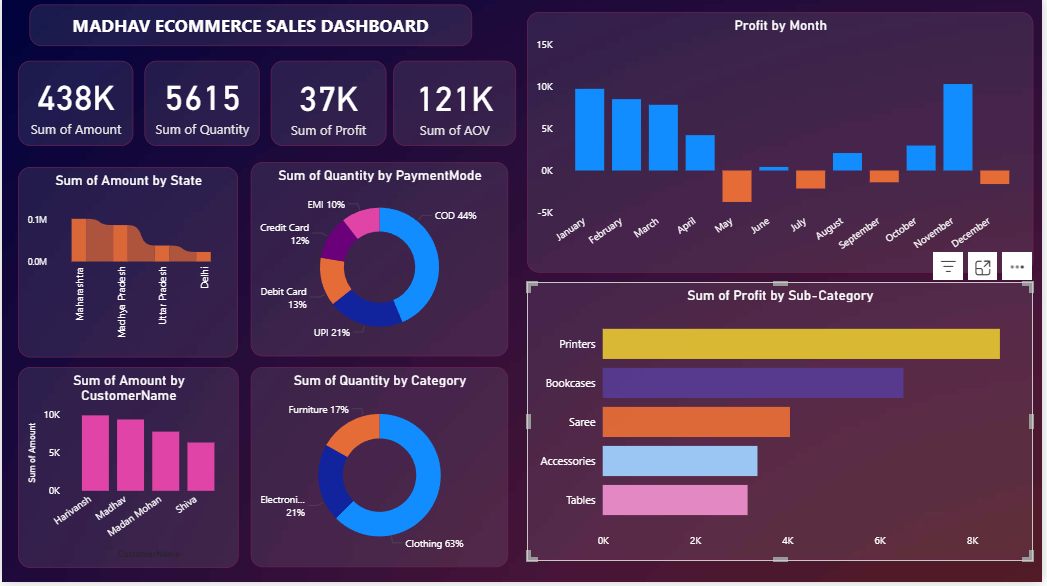

The dashboard page shown, as its layout file describes it:
{"tool":"powerbi","page":{"name":"Page 1","canvas":[1280,720],"ordinal":0},"visuals":[{"type":"textbox","box":[34.4,8.6,544.8,51.5],"z":0},{"type":"columnChart","title":"Profit by Month","fields":{"Category":["Orders.Order Date.Variation.Date Hierarchy.Month"],"Y":["Details.Profit"]},"box":[646.2,17.7,623.1,320.8],"z":1000},{"type":"barChart","fields":{"Category":["Details.Sub-Category"],"Y":["Details.Profit"]},"box":[646.7,351.1,622.2,342.2],"z":2000},{"type":"donutChart","fields":{"Category":["Details.Category"],"Y":["Details.Quantity"]},"box":[306.8,455.2,316.6,246.6],"z":3000},{"type":"donutChart","fields":{"Y":["Details.Quantity"],"Category":["Details.PaymentMode"]},"box":[306.8,203.7,316.6,239.3],"z":4000},{"type":"card","fields":{"Values":["Details.Amount"]},"box":[19.4,79.1,141.8,104.5],"z":5000},{"type":"card","fields":{"Values":["Details.Quantity"]},"box":[176.1,79.1,141.8,104.5],"z":6000},{"type":"card","fields":{"Values":["Details.Profit"]},"box":[330,79,142,105],"z":7000},{"type":"card","fields":{"Values":["Details.AOV"]},"box":[482,79,151,105],"z":8000},{"type":"ribbonChart","fields":{"Category":["Orders.State"],"Y":["Details.Amount"]},"box":[19.5,208.5,270.7,234.1],"z":9000},{"type":"clusteredColumnChart","fields":{"Y":["Details.Amount"],"Category":["Orders.CustomerName"]},"box":[20,455,271,247],"z":10000}]}

Visuals, with their boxes in screenshot pixels (x1, y1, x2, y2), scaled from the page's 1280x720 canvas onto the 1047x586 screenshot:
textbox: {"left": 28, "top": 7, "right": 474, "bottom": 49}
"Profit by Month" columnChart: {"left": 529, "top": 14, "right": 1038, "bottom": 276}
barChart - Details.Sub-Category x Details.Profit: {"left": 529, "top": 286, "right": 1038, "bottom": 564}
donutChart - Details.Category x Details.Quantity: {"left": 251, "top": 370, "right": 510, "bottom": 571}
donutChart - Details.Quantity x Details.PaymentMode: {"left": 251, "top": 166, "right": 510, "bottom": 361}
card - Details.Amount: {"left": 16, "top": 64, "right": 132, "bottom": 149}
card - Details.Quantity: {"left": 144, "top": 64, "right": 260, "bottom": 149}
card - Details.Profit: {"left": 270, "top": 64, "right": 386, "bottom": 150}
card - Details.AOV: {"left": 394, "top": 64, "right": 518, "bottom": 150}
ribbonChart - Orders.State x Details.Amount: {"left": 16, "top": 170, "right": 237, "bottom": 360}
clusteredColumnChart - Details.Amount x Orders.CustomerName: {"left": 16, "top": 370, "right": 238, "bottom": 571}
